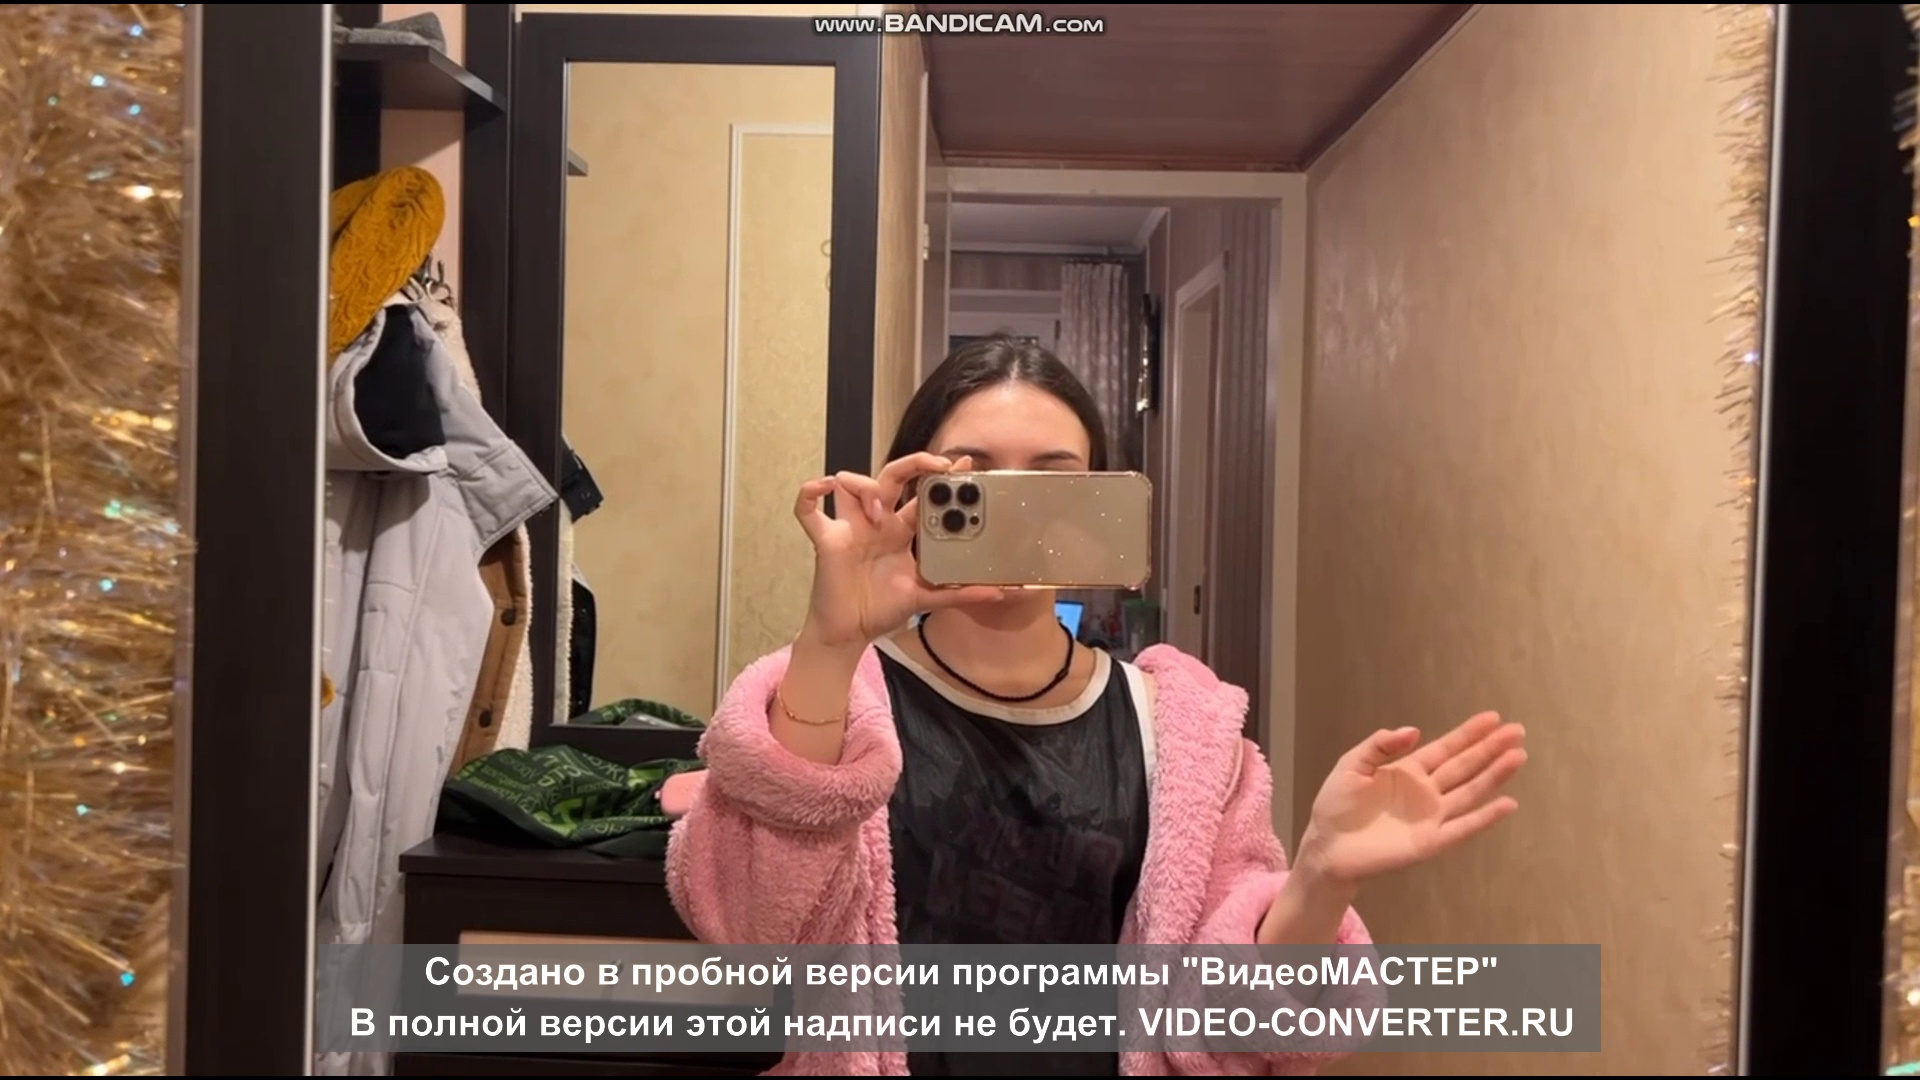Ладонь: (1309, 702, 1527, 885)
